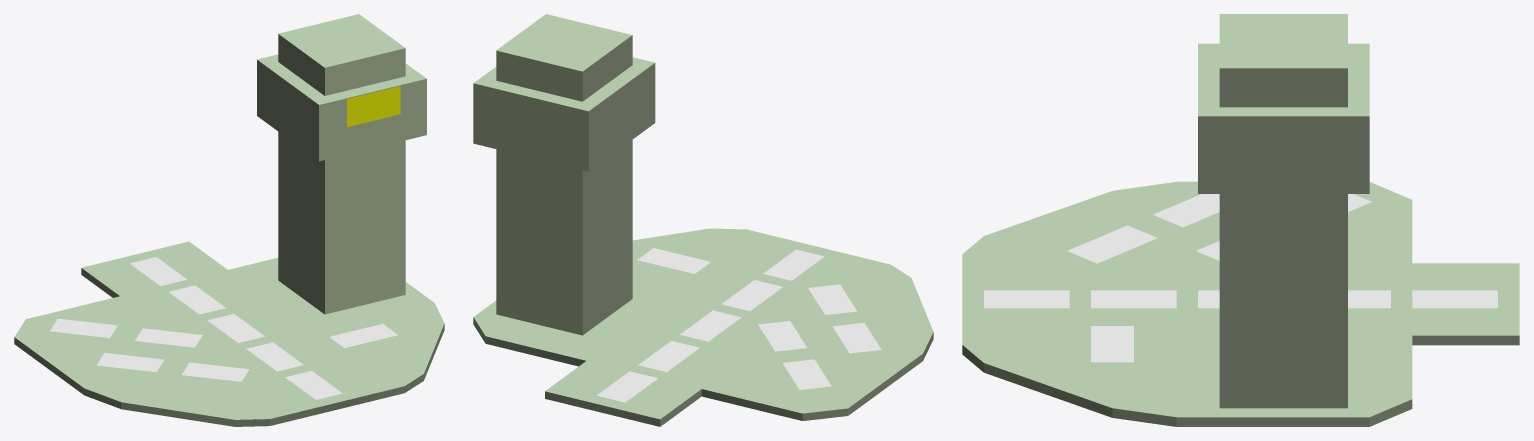
Rendered from Airport.JadeSun.glb.
3 views of the same model, side by side, from view 1: azimuth 30°, elevation 25°; view 2: azimuth 150°, elevation 25°; view 3: azimuth 270°, elevation 25° (orthographic). The views are drawn at different scales.
Visible parts, largest first — view 1: Airport.JadeSun; view 2: Airport.JadeSun; view 3: Airport.JadeSun.
Boxes of the visible parts, x1,y1,x2,y2 form: Airport.JadeSun: (14, 14, 444, 426); Airport.JadeSun: (473, 14, 933, 426); Airport.JadeSun: (962, 14, 1519, 426).
Bounding box in the file's own units: 2.6 × 1.8 × 2.6.
2 materials, 1 textured.
